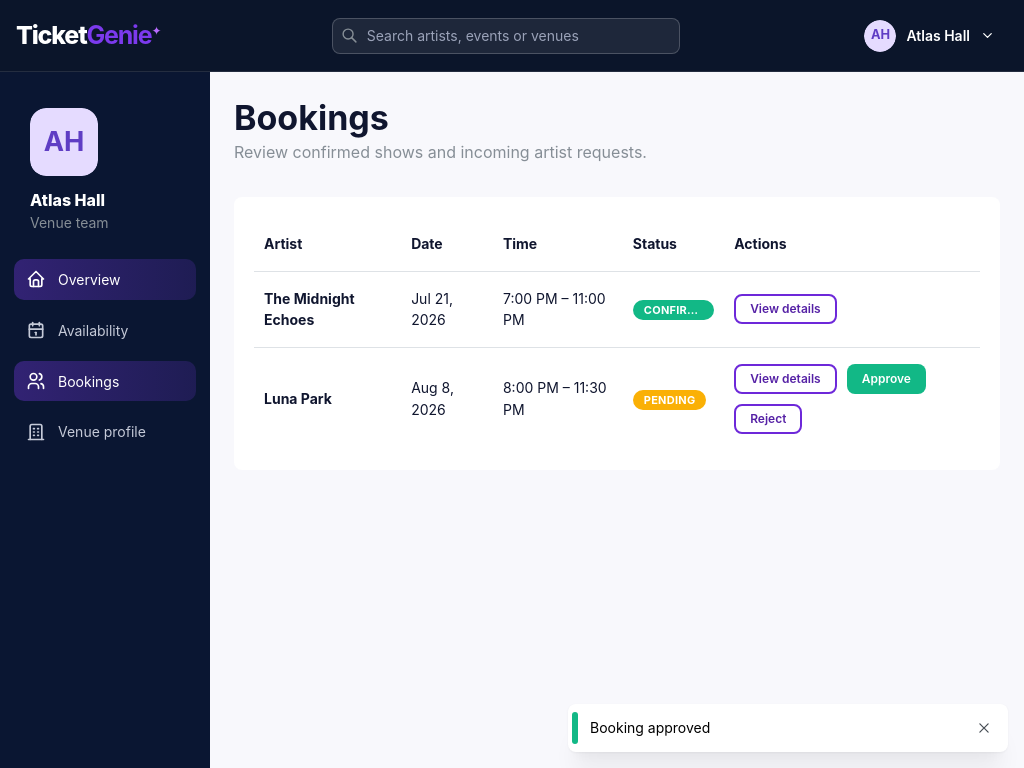
Test: application route smoke coverage › rejects a pending Artist request and removes it from bookings
Expected: the text "Luna Park" is shown, 254,348 -> 401,450
Click the button "Reject" at (768,419), box 734,404 -> 802,434
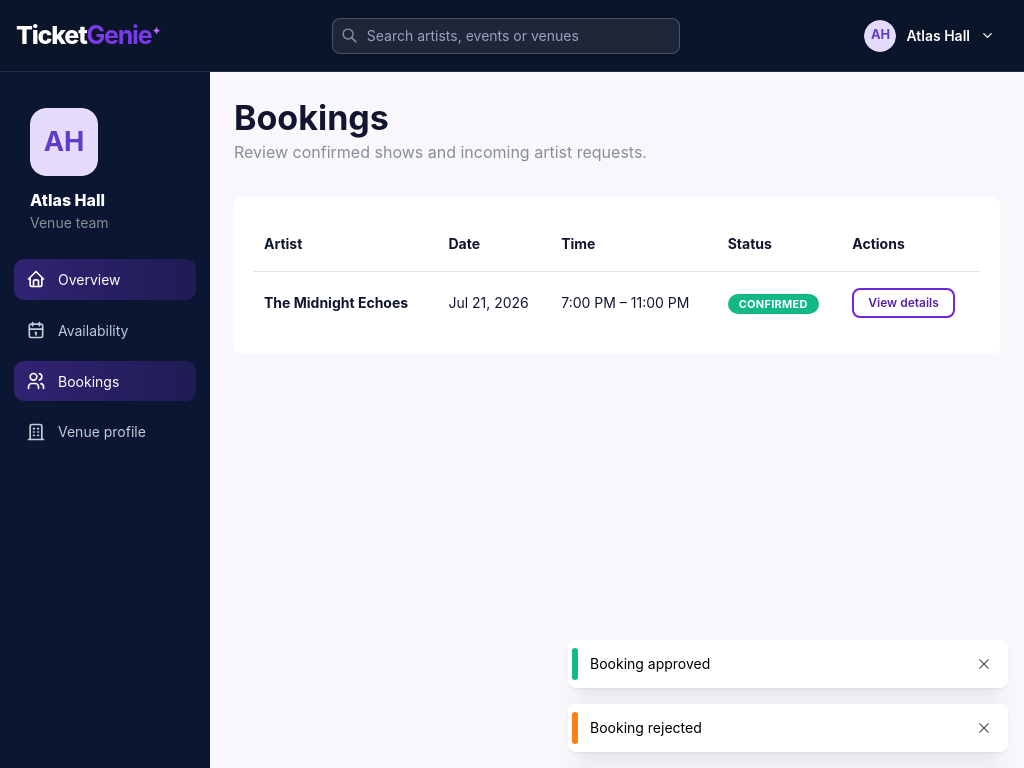
Now the text "Luna Park" is gone
